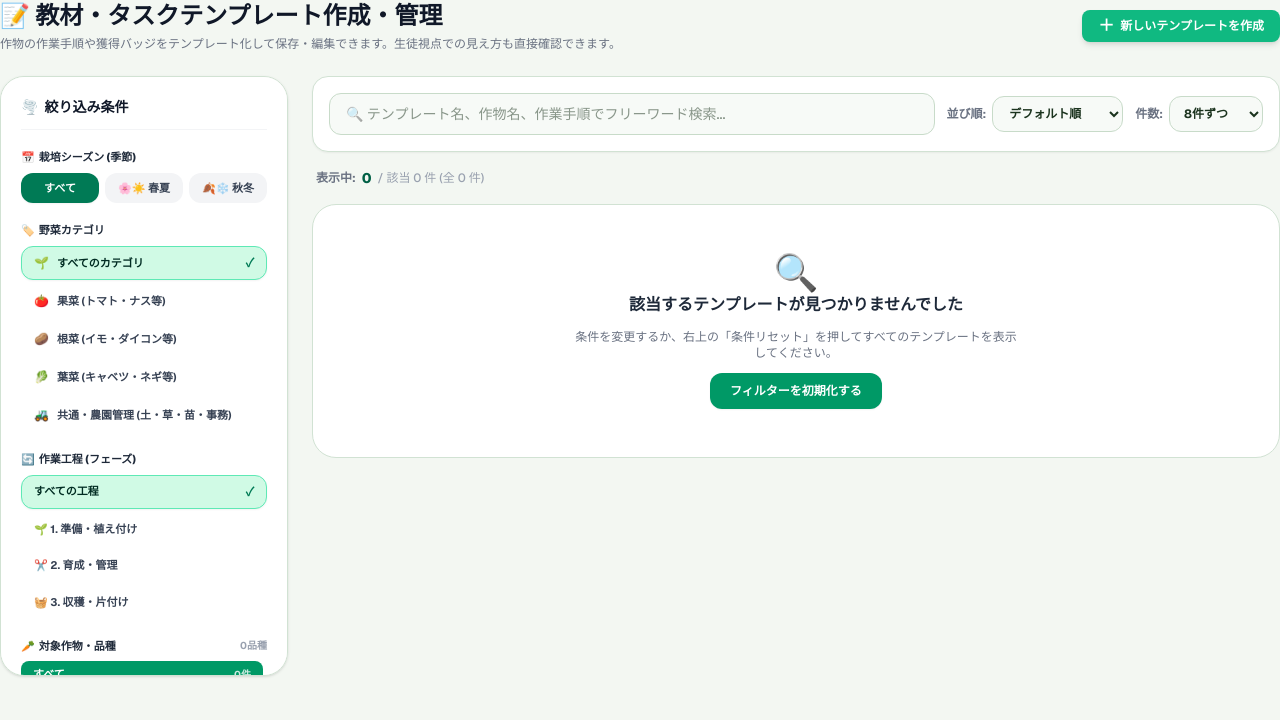
Test case: R-2: 書き込みエラーのトースト通知（正常系・異常系） › 3. テンプレート管理画面での保存 (TeacherTemplatesView.handleSaveTemplate) › DB 書き込み成功時に成功トーストが表示される
The image size is (1280, 720).
What coordinates should you click on to do the following:
click the text "新しいテンプレートを作成"
I would click on:
 (1192, 26)
Its box is [1120, 18, 1264, 34].
(page scrolled)
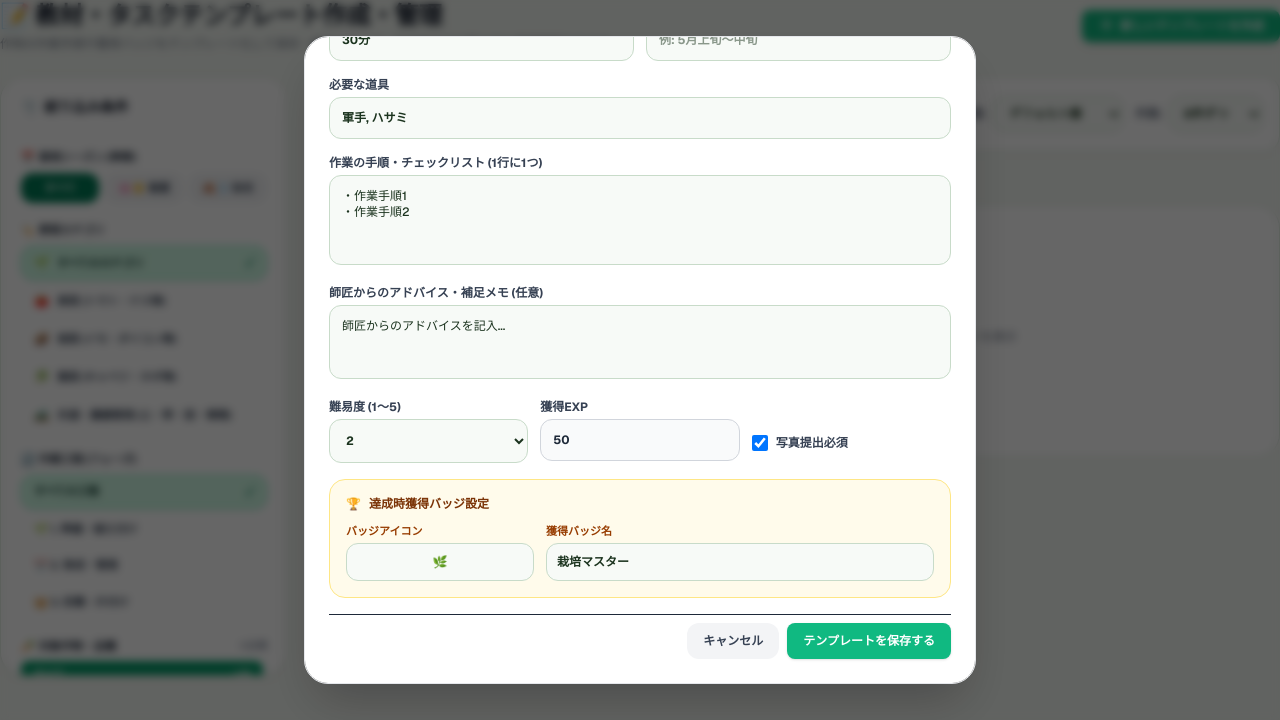
What coordinates should you click on to do the following:
click the button "テンプレートを保存する"
I would click on:
 (869, 641)
Its box is [787, 623, 951, 659].
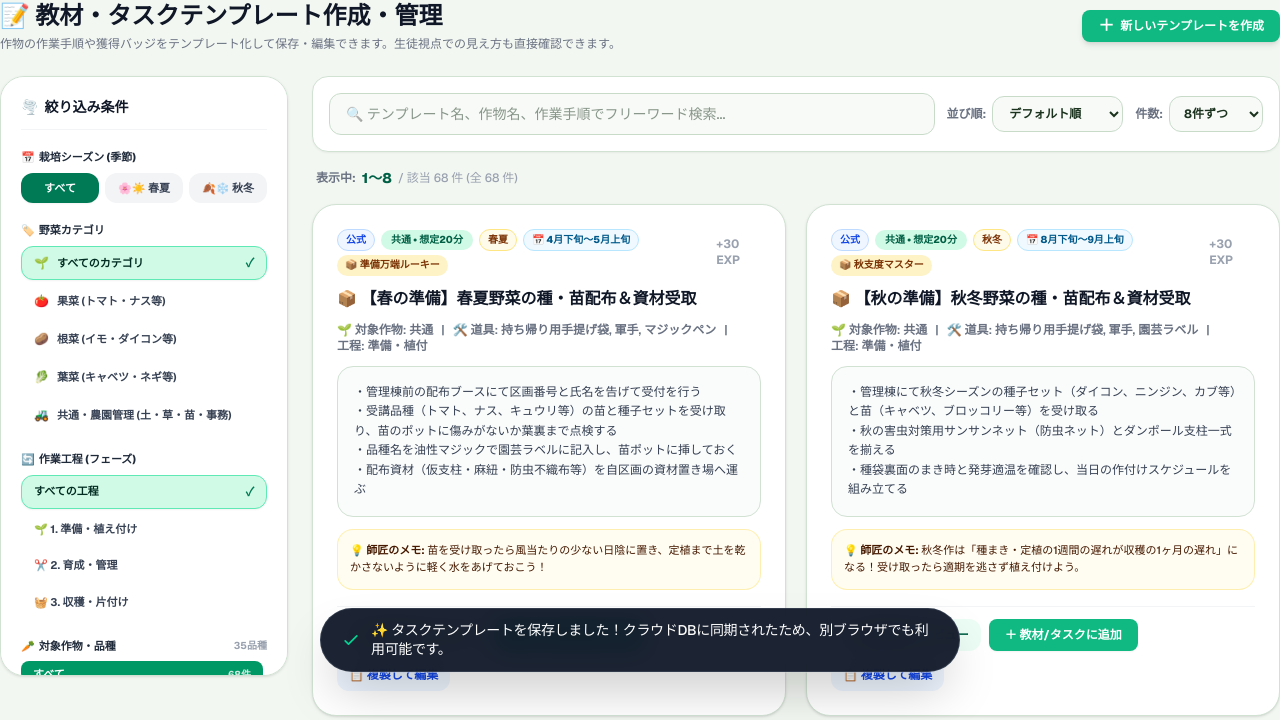
Expected: the text "✨ タスクテンプレートを保存しました！クラウドDBに同期されたため、別ブラウザでも利用可能です。" is shown, [371, 620, 939, 659]
